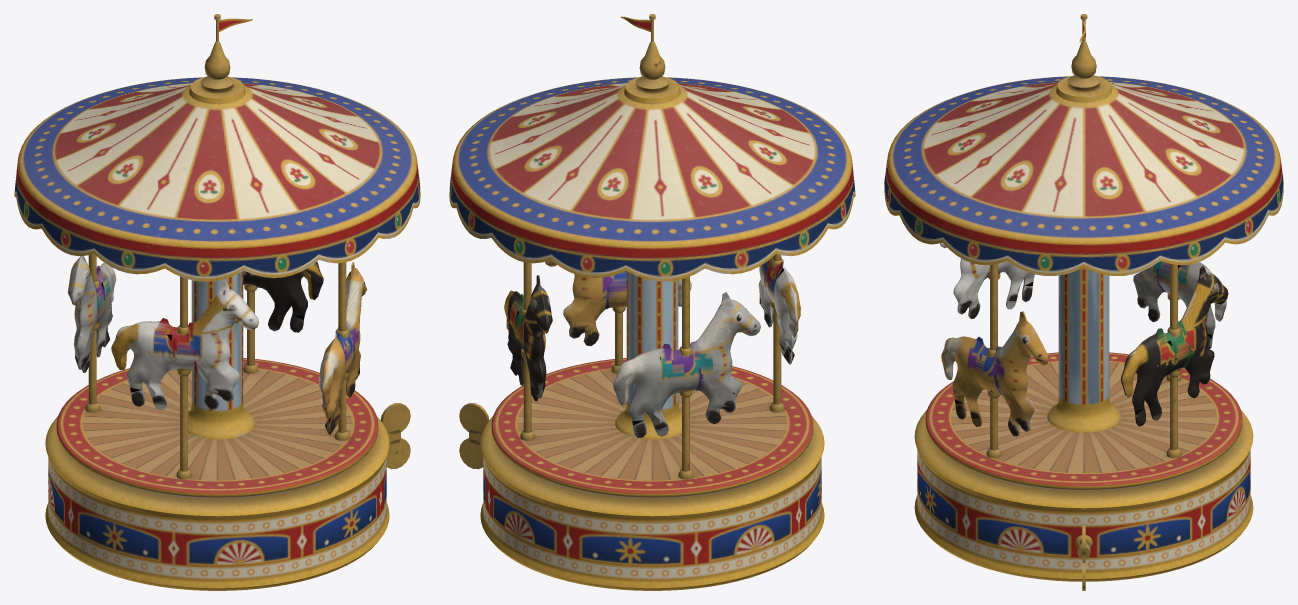
File: TinCarousel.fbx
3 renders of one model, left to right at view 1: azimuth 30°, elevation 25°; view 2: azimuth 150°, elevation 25°; view 3: azimuth 270°, elevation 25°, orthographic.
Parts seen in each view (by area): view 1: TinCarousel_Top, TinCarousel_Base, TinCarousel_Horse3, TinCarousel_Horse4, TinCarousel_Horse2, TinCarousel_Horse1, TinCarousel_Key; view 2: TinCarousel_Top, TinCarousel_Base, TinCarousel_Horse2, TinCarousel_Horse1, TinCarousel_Horse4, TinCarousel_Horse3, TinCarousel_Key; view 3: TinCarousel_Top, TinCarousel_Base, TinCarousel_Horse1, TinCarousel_Horse4, TinCarousel_Horse2, TinCarousel_Horse3.
Boxes of the visible parts, x1=… form: TinCarousel_Top: x1=14, y1=14, x2=420, y2=497; TinCarousel_Base: x1=45, y1=416, x2=389, y2=590; TinCarousel_Horse3: x1=111, y1=280, x2=258, y2=410; TinCarousel_Horse4: x1=318, y1=262, x2=367, y2=434; TinCarousel_Horse2: x1=67, y1=256, x2=116, y2=372; TinCarousel_Horse1: x1=243, y1=261, x2=323, y2=332; TinCarousel_Key: x1=380, y1=403, x2=410, y2=469; TinCarousel_Top: x1=449, y1=14, x2=855, y2=497; TinCarousel_Base: x1=480, y1=416, x2=824, y2=590; TinCarousel_Horse2: x1=613, y1=292, x2=760, y2=437; TinCarousel_Horse1: x1=504, y1=275, x2=552, y2=401; TinCarousel_Horse4: x1=545, y1=260, x2=691, y2=346; TinCarousel_Horse3: x1=758, y1=256, x2=800, y2=364; TinCarousel_Key: x1=459, y1=403, x2=489, y2=469; TinCarousel_Top: x1=884, y1=14, x2=1283, y2=490; TinCarousel_Base: x1=914, y1=409, x2=1253, y2=581; TinCarousel_Horse1: x1=1121, y1=266, x2=1228, y2=426; TinCarousel_Horse4: x1=941, y1=311, x2=1048, y2=436; TinCarousel_Horse2: x1=1133, y1=261, x2=1226, y2=349; TinCarousel_Horse3: x1=940, y1=242, x2=1034, y2=318.
Size of the model in its own units: 0.6481 by 0.8504 by 0.6189.
1 material, 1 textured.
